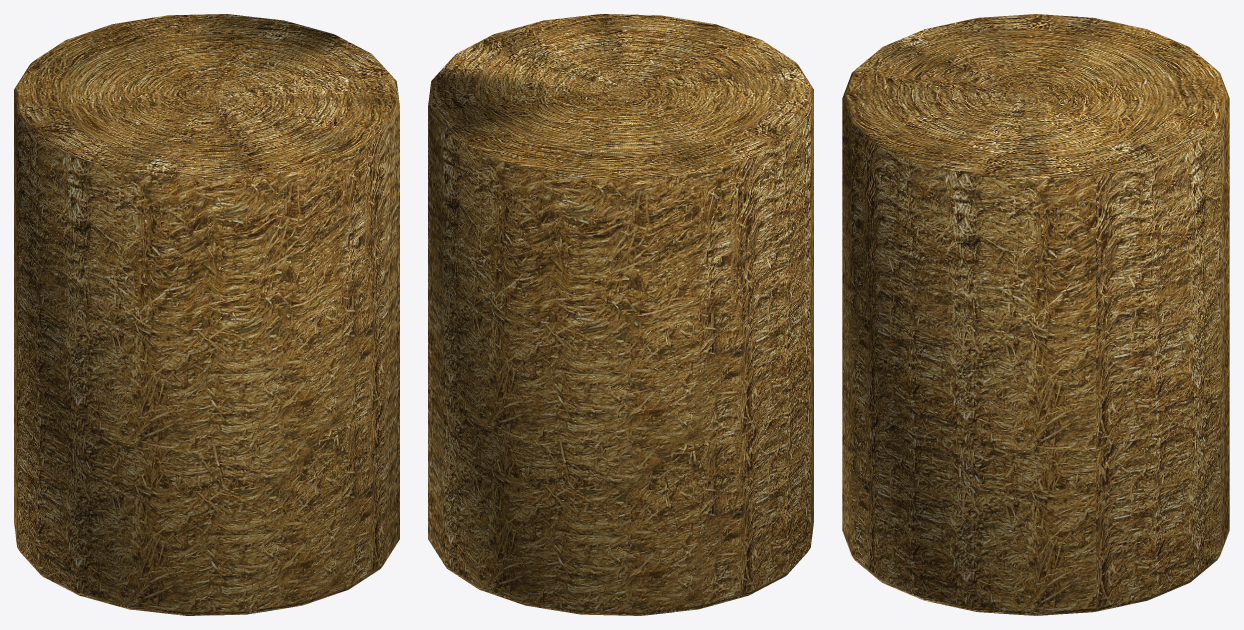
The model's file is HayRol_01.fbx.
3 views of the same model, side by side, from view 1: azimuth 30°, elevation 25°; view 2: azimuth 150°, elevation 25°; view 3: azimuth 270°, elevation 25° (orthographic).
Visible parts, largest first — view 1: HayRoll_01; view 2: HayRoll_01; view 3: HayRoll_01.
Part boxes in pixels (box(x1,y1,x2,y2)): HayRoll_01: box(14, 14, 399, 615); HayRoll_01: box(428, 14, 813, 615); HayRoll_01: box(842, 14, 1229, 615).
Size of the model in its own units: 2.01 by 2.53 by 2.01.
Materials: 2 (2 with a texture image).
